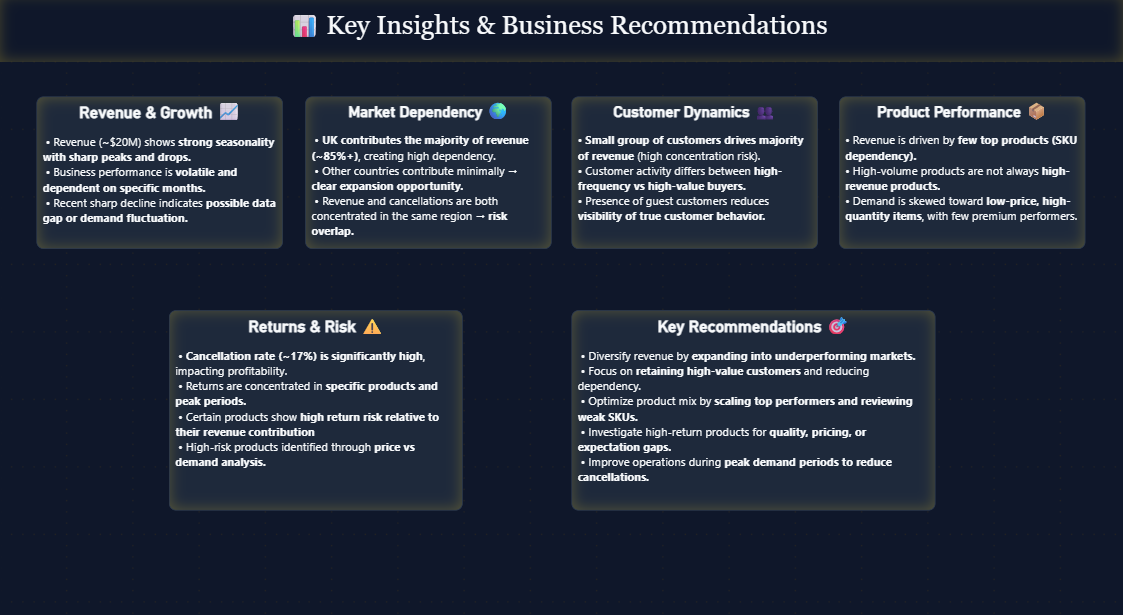

Layout of this report page (visuals, bound fields, positions):
{"tool":"powerbi","page":{"name":"Insights","canvas":[1600,900],"ordinal":4},"visuals":[{"type":"textbox","box":[0,0,1600,96],"z":0},{"type":"textbox","title":"Revenue & Growth 📈","box":[53.3,145.8,350,216.9],"z":1000},{"type":"textbox","title":"Market Dependency 🌍","box":[435.6,145.8,350.2,216.9],"z":2000},{"type":"textbox","title":"Customer Dynamics 👥","box":[814.2,145.8,350,216.9],"z":3000},{"type":"textbox","title":"Product Performance 📦","box":[1194.7,145.8,350.2,216.9],"z":4000},{"type":"textbox","title":"Returns & Risk ⚠️ ","box":[241.8,449.8,417.8,284.4],"z":5000},{"type":"textbox","title":"Key Recommendations 🎯","box":[814.2,449.8,517.3,284.4],"z":6000}]}

Visuals, with their boxes in screenshot pixels (x1, y1, x2, y2), scaled from the page's 1600x900 canvas onto the 1123x615 screenshot:
textbox: (0,0,1122,66)
"Revenue & Growth 📈" textbox: (37,100,283,248)
"Market Dependency 🌍" textbox: (306,100,552,248)
"Customer Dynamics 👥" textbox: (571,100,817,248)
"Product Performance 📦" textbox: (839,100,1084,248)
"Returns & Risk ⚠️ " textbox: (170,307,463,502)
"Key Recommendations 🎯" textbox: (571,307,935,502)
